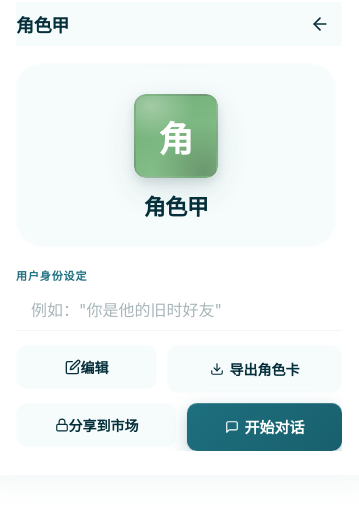
Test: 详情页导出角色卡 › exportCard 抛错时页面显示「导出失败：…」
Click the button "导出角色卡" at (254, 368), box [167,344,342,392]
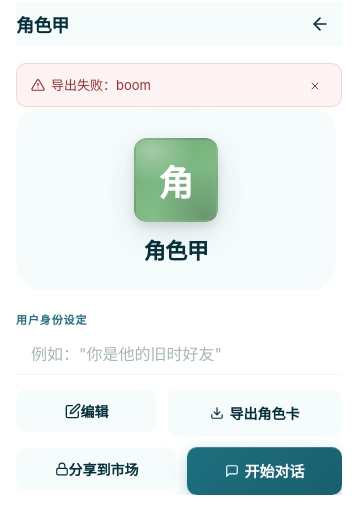
Check: the text "导出失败：boom" is shown, box [31,77,151,93]
